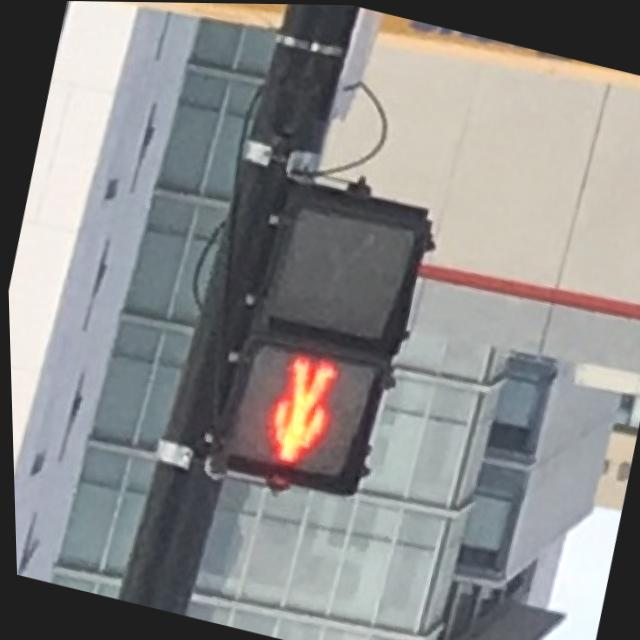red_light: (228, 339, 369, 485)
